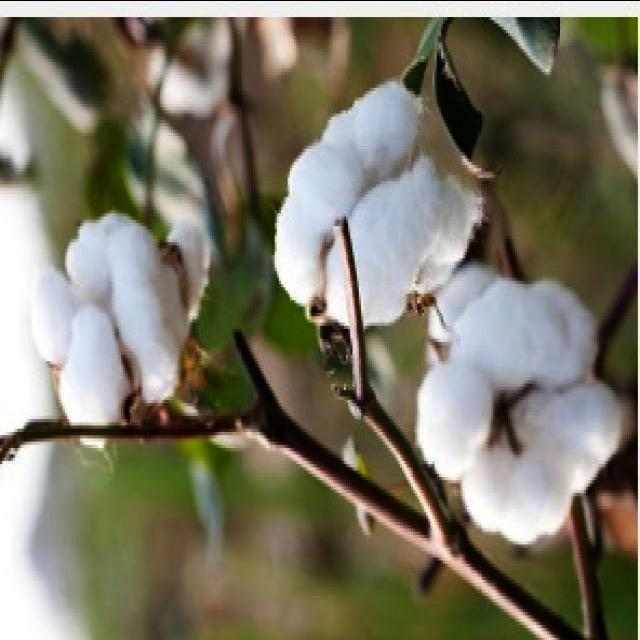Matured Cotton Boll: (270, 90, 494, 330), (420, 274, 614, 548), (36, 219, 210, 437)
